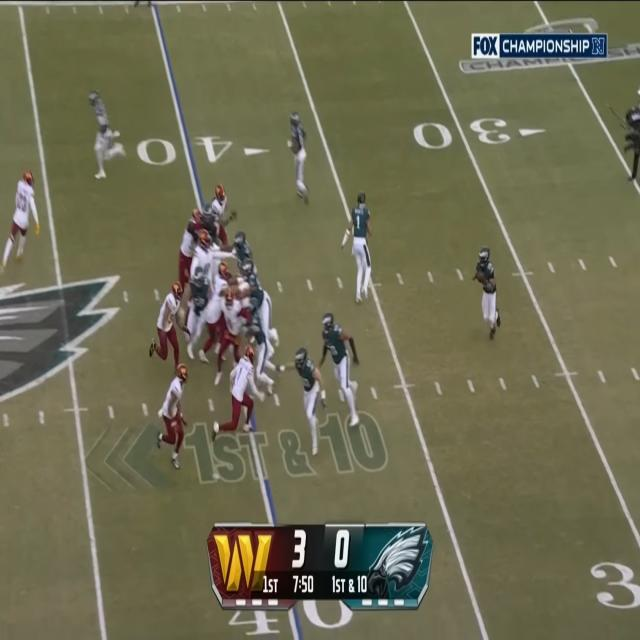Ball: (475, 272, 485, 284)
